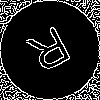R: (25, 25, 78, 82)
